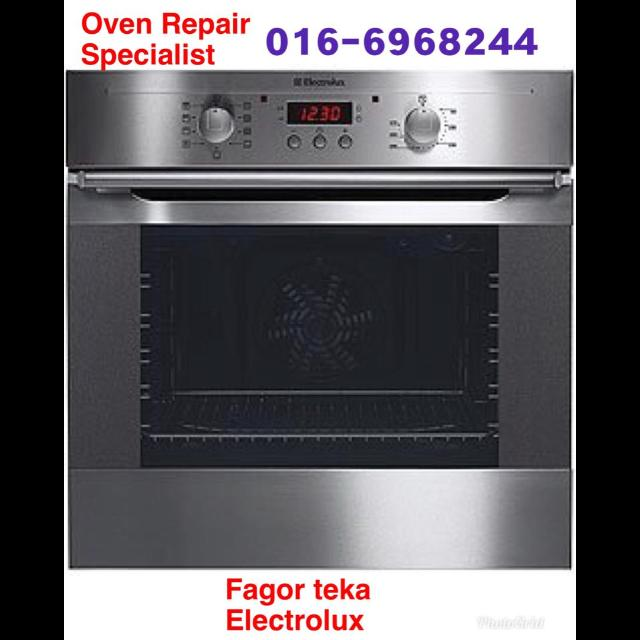Oven: (81, 1, 529, 493)
